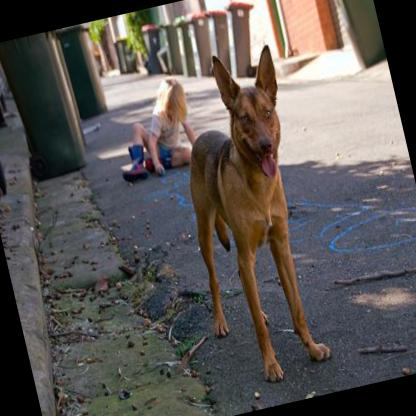kelpie: (150, 38, 344, 396)
